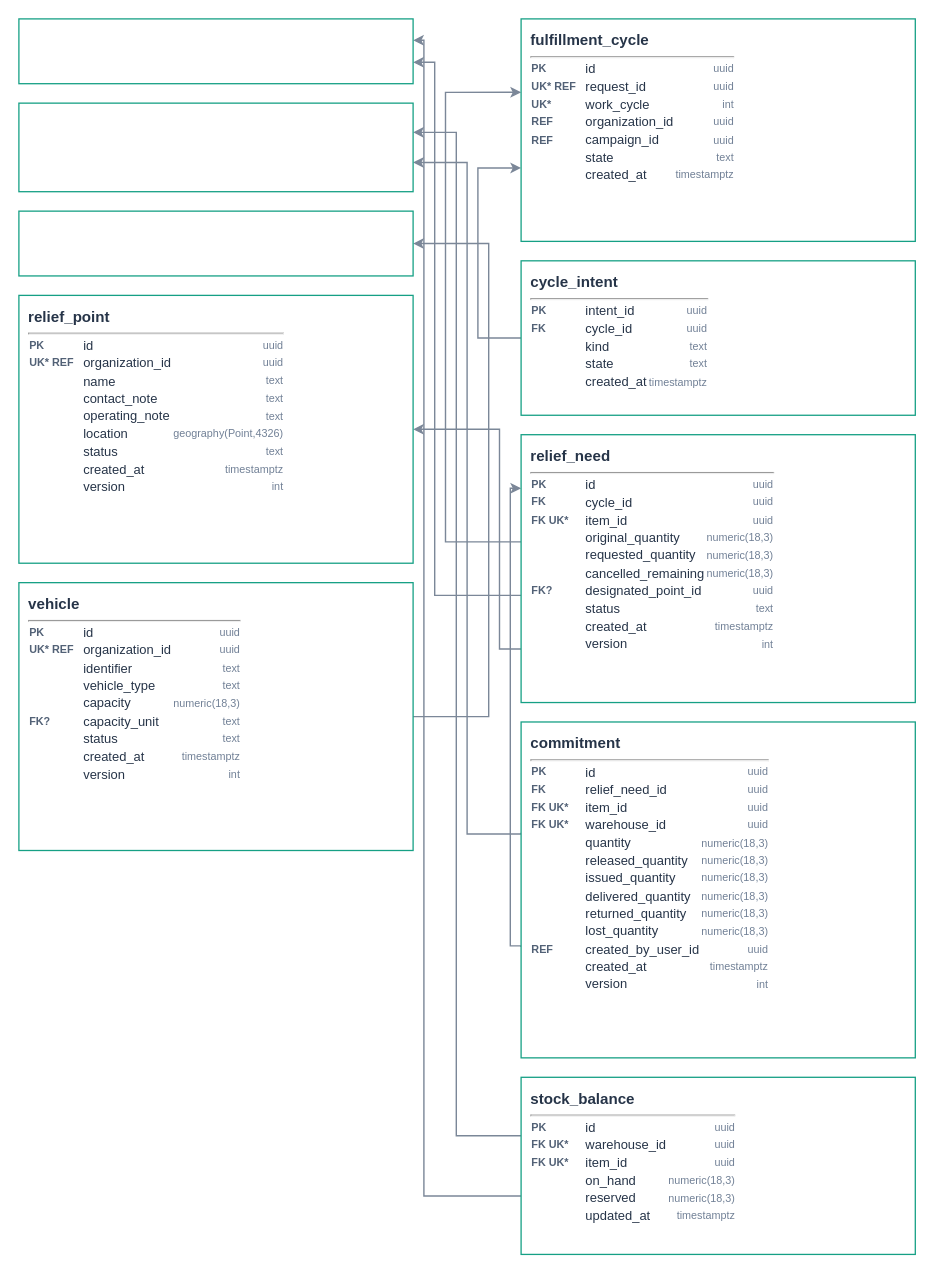
Some shapes in this 935 by 1277 pixel diagram are drawn without their labels. Here are the shapes that lost their labels. From the top down, the box of each, then its label:
(18, 18, 413, 84): item PK id uuid
(18, 102, 413, 192): warehouse PK id uuid UK* REF organization_id uuid
(18, 210, 413, 276): unit PK code text
